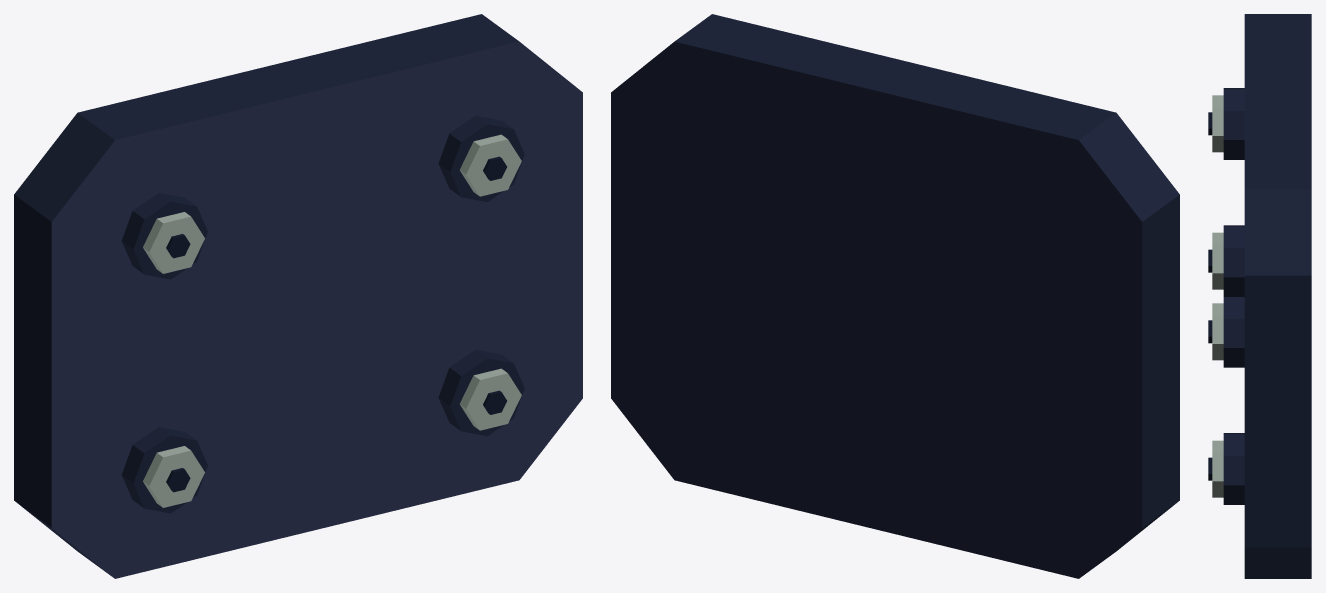
The model's file is gusset.glb.
The picture shows the model from 3 angles, left to right: view 1: azimuth 30°, elevation 25°; view 2: azimuth 150°, elevation 25°; view 3: azimuth 270°, elevation 25°; orthographic projection. The views are drawn at different scales.
Parts seen in each view (by area): view 1: Gusset, Rivets; view 2: Gusset; view 3: Gusset, Rivets.
Boxes of the visible parts, <box> form: Gusset: <box>14,14,582,578</box>; Rivets: <box>122,115,524,513</box>; Gusset: <box>611,14,1179,578</box>; Gusset: <box>1244,14,1311,578</box>; Rivets: <box>1208,88,1244,504</box>.
Bounding box in the file's own units: 0.285 × 0.225 × 0.054.
